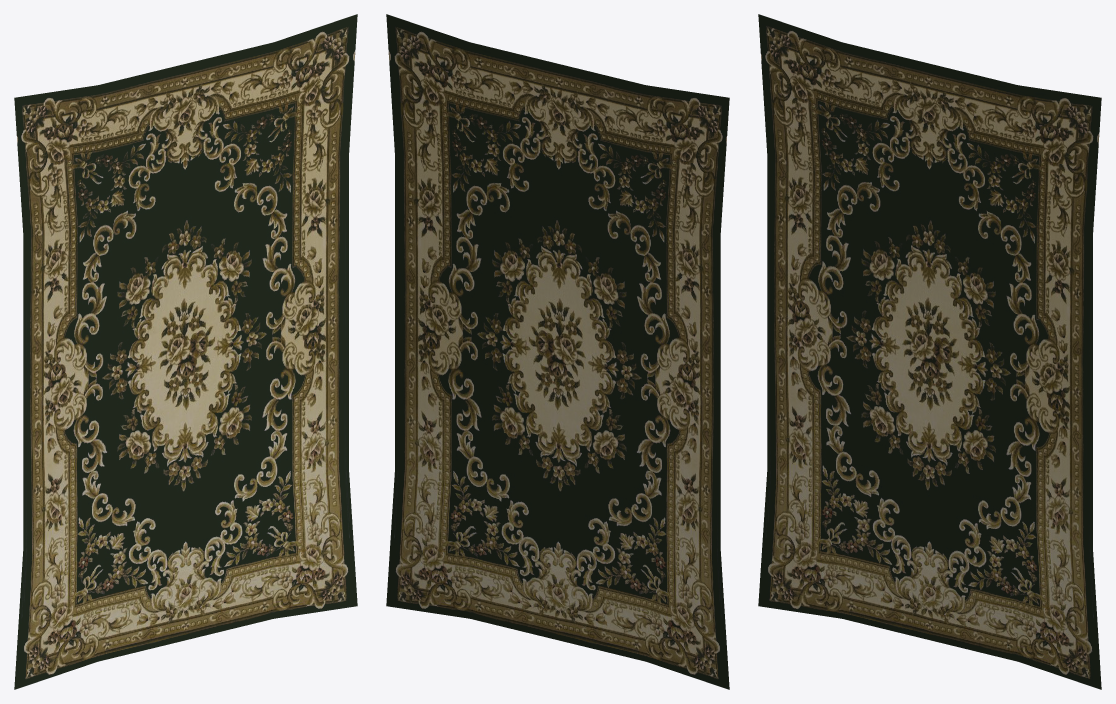
File: Alfombra Fin.FBX
3 views of the same model, side by side, from view 1: azimuth 30°, elevation 25°; view 2: azimuth 150°, elevation 25°; view 3: azimuth 330°, elevation 25° (orthographic).
Parts seen in each view (by area): view 1: Plane001; view 2: Plane001; view 3: Plane001.
Boxes of the visible parts, x1,y1,x2,y2 form: Plane001: (14,14,357,689); Plane001: (386,14,729,689); Plane001: (758,14,1101,689).
Size of the model in its own units: 200 by 330 by 5.38e-05.
Materials: 1 (1 with a texture image).
